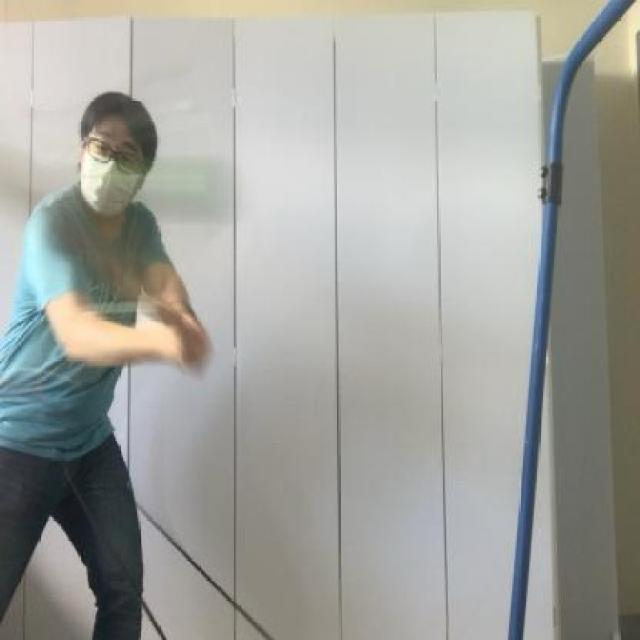baseball: (17, 143, 245, 235)
